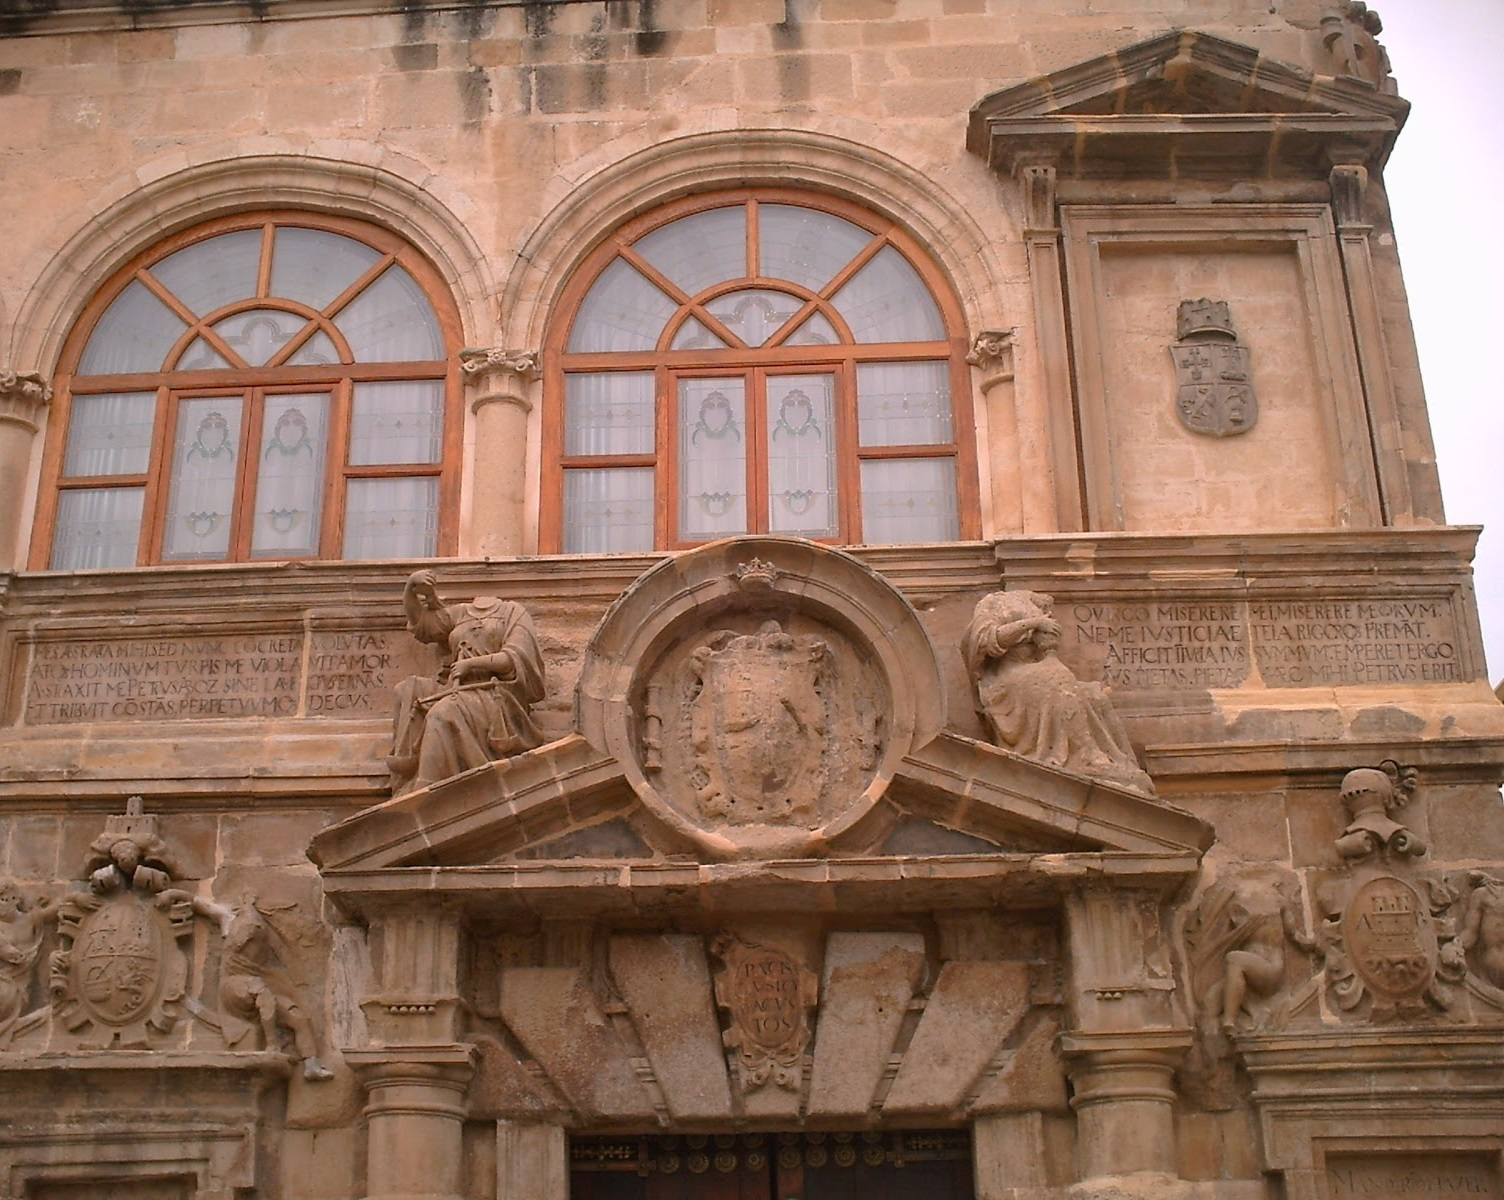arco-medio-punto: (31, 178, 489, 404), (523, 168, 997, 383)
fronton: (959, 23, 1426, 173)
fronton-partido: (294, 707, 1228, 926)
